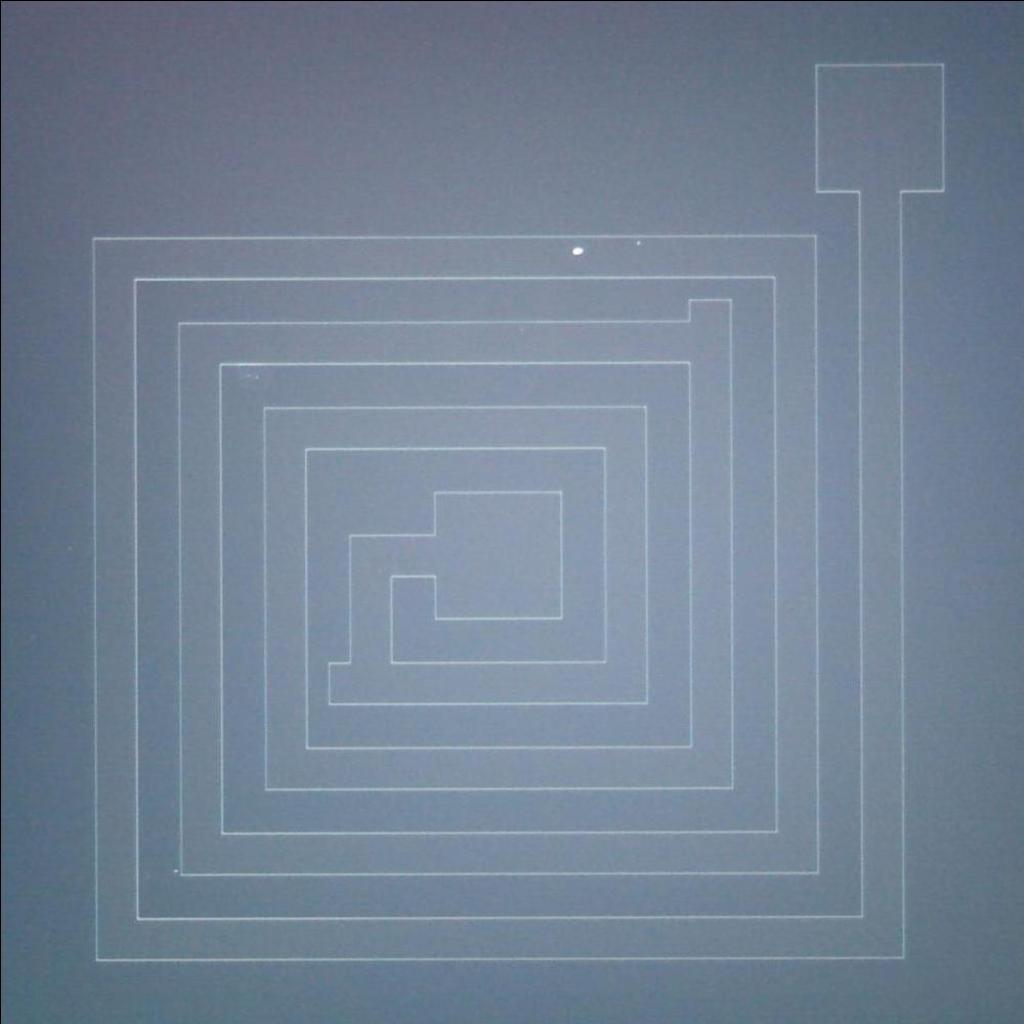budge circuit: (671, 294, 740, 332), (322, 648, 358, 717)
spot: (564, 238, 591, 264)
